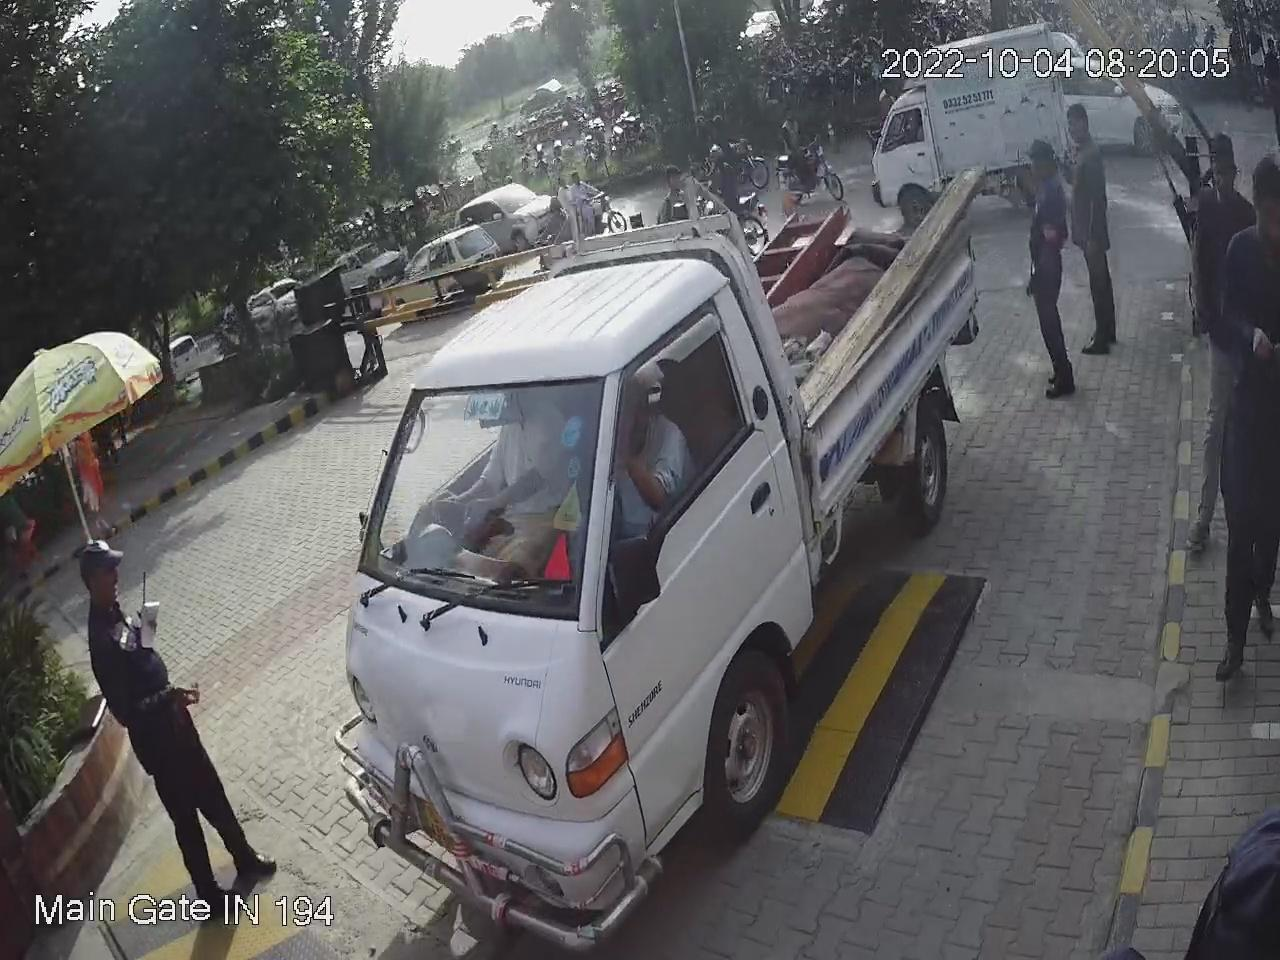windshield: (348, 362, 614, 647)
